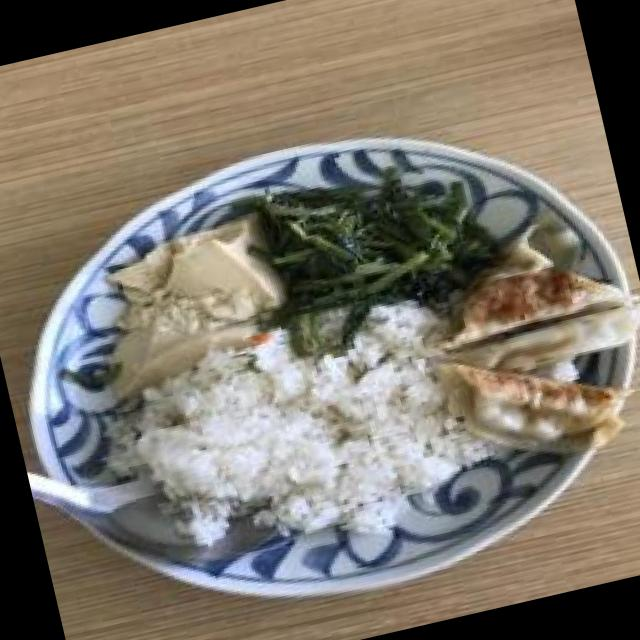fried_dumplings: (416, 204, 640, 478)
rice: (133, 297, 474, 554)
water_spinach: (255, 146, 506, 331)
